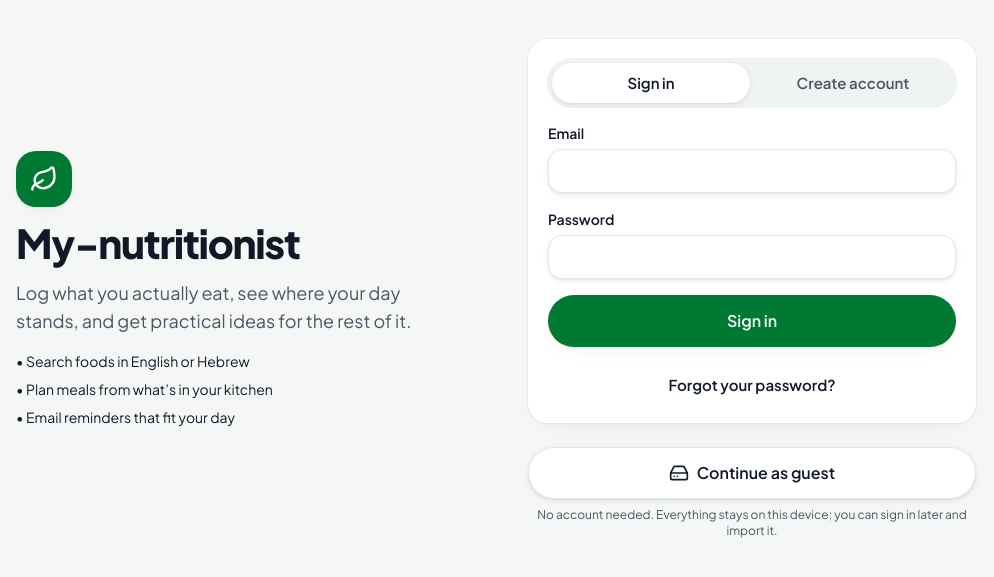
Test: WelcomeScreen › validates the sign-in form before contacting the server
This screenshot has width=994, height=577.
Click the button "Sign in": (752, 321) [548, 295, 956, 347]
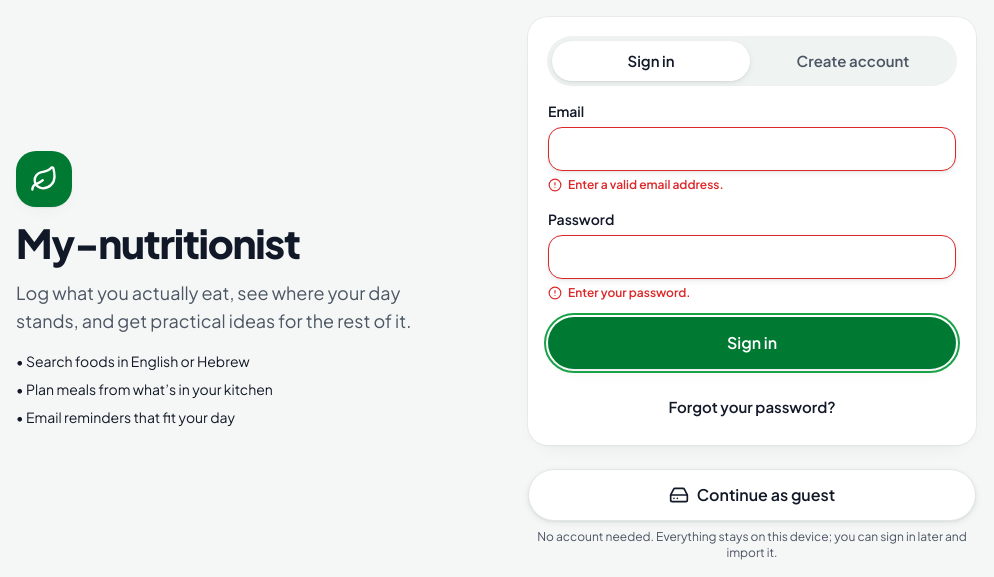
expect the text "Enter a valid email address." is shown: met, box [568, 177, 724, 193]
expect the text "Enter your password." is shown: met, box [568, 285, 690, 301]
Click the radio button labelled "Create account": (853, 60) [797, 51, 909, 70]
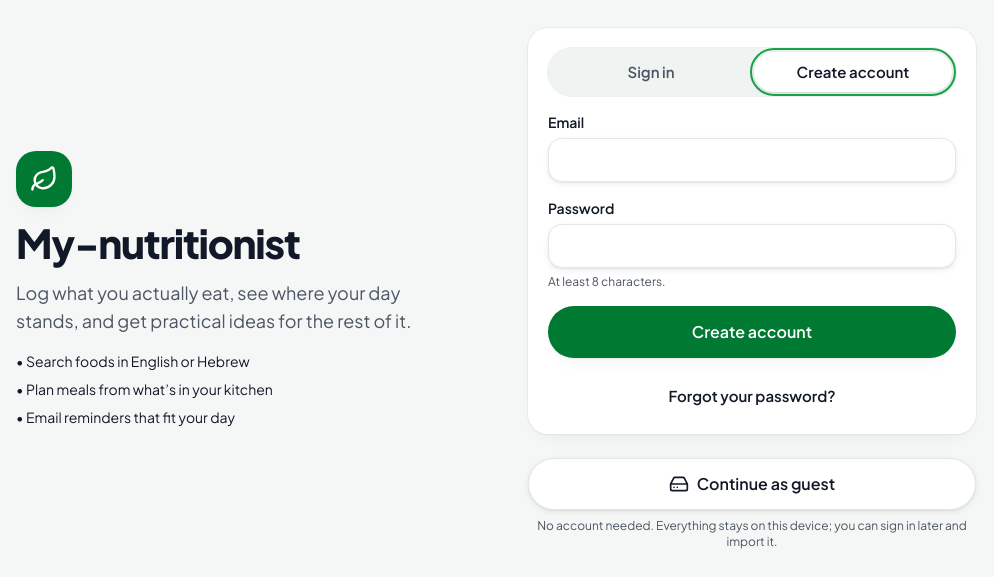
In the field labelled "Email": (752, 160) [548, 138, 956, 182], type "dana@example.com"
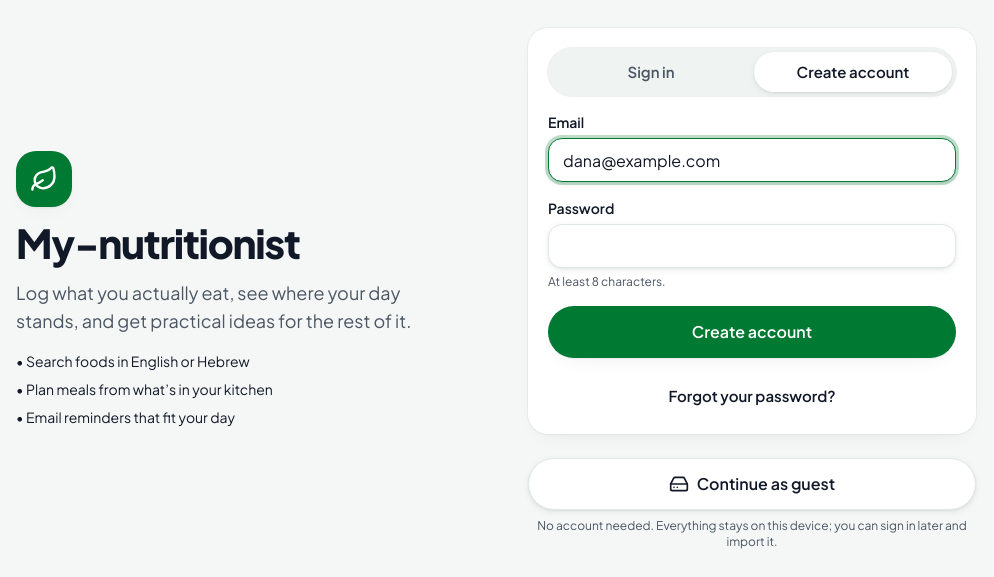
In the password field labelled "Password": (752, 246) [548, 224, 956, 268], type "short"
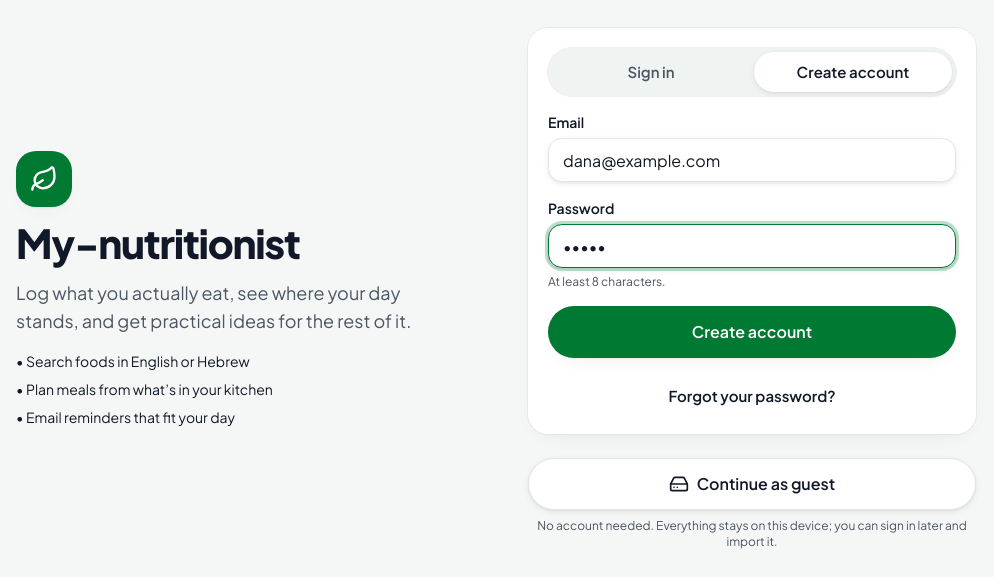
Click the button "Create account": (752, 332) [548, 306, 956, 358]
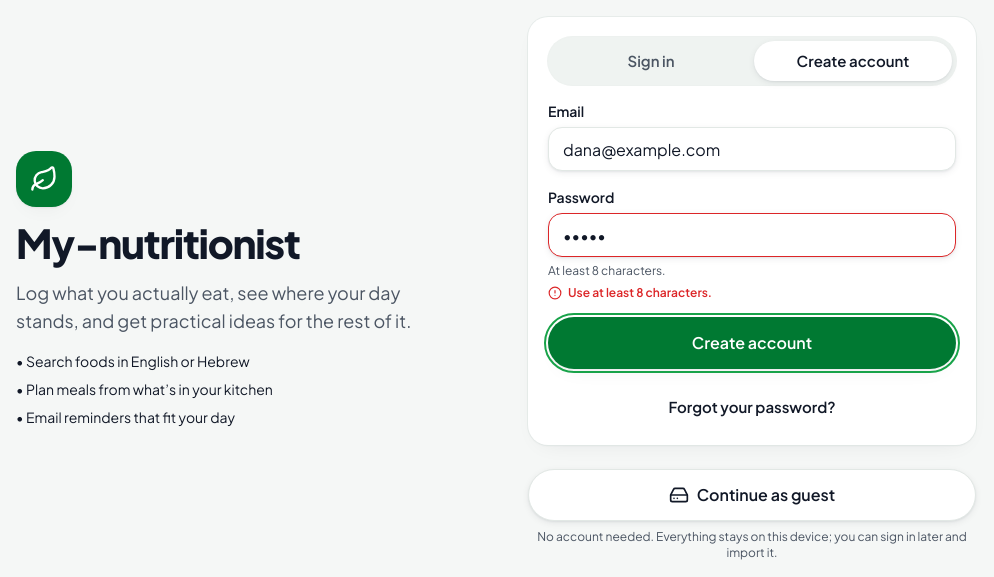
expect the text "Use at least 8 characters." is shown: met, box [568, 285, 712, 301]
